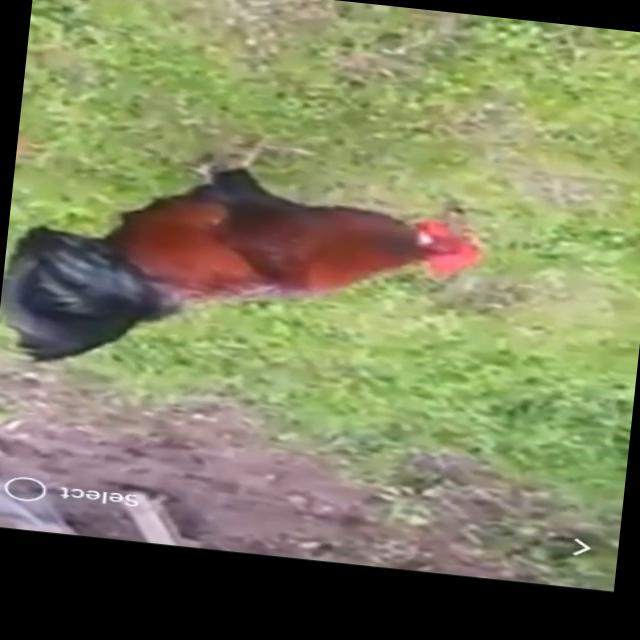feeding: (0, 115, 484, 413)
